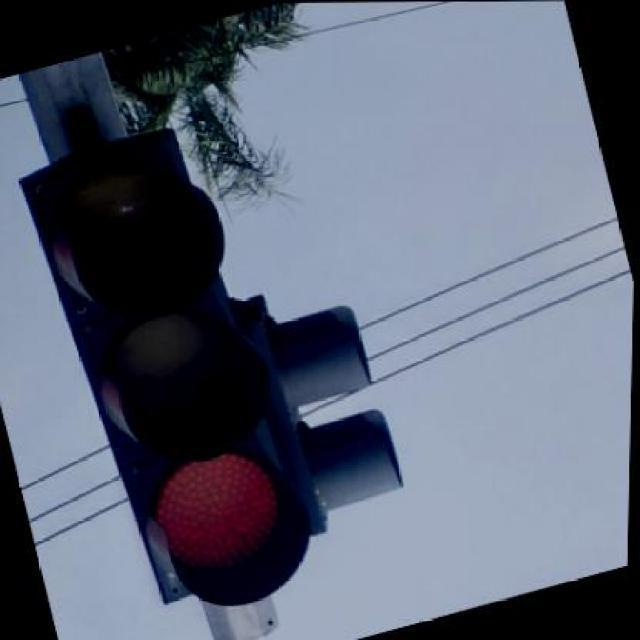red_light: (19, 128, 382, 603)
